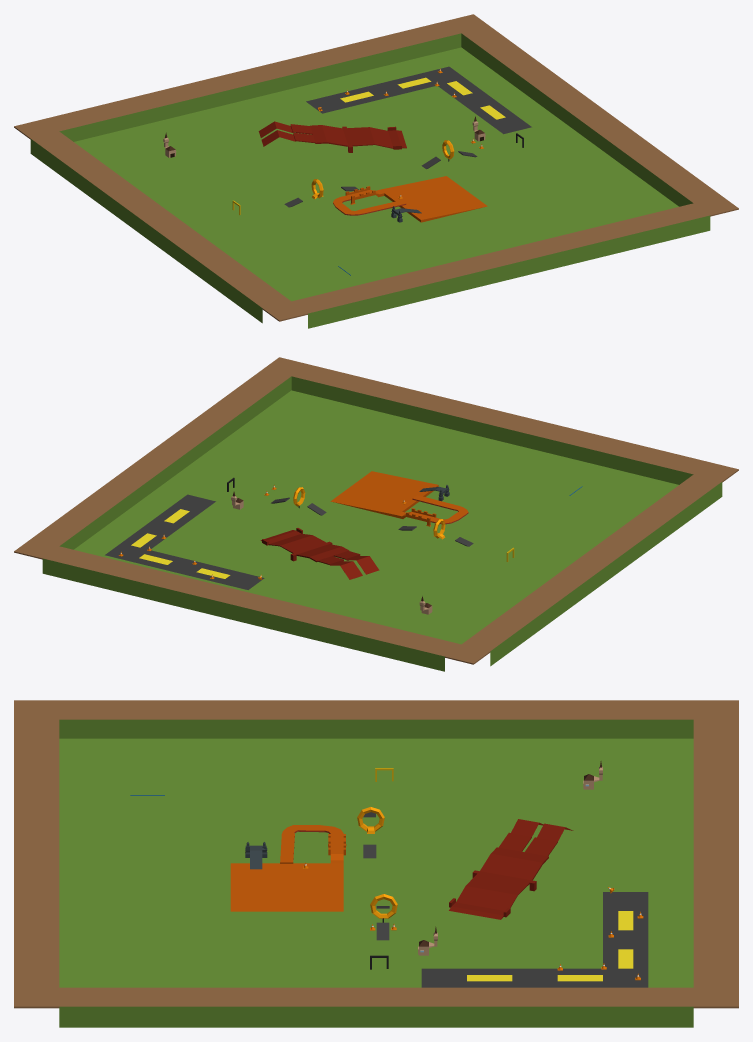
Rendered from test-course.gltf.
The picture shows the model from 3 angles, top to bottom: view 1: azimuth 30°, elevation 25°; view 2: azimuth 150°, elevation 25°; view 3: azimuth 270°, elevation 25°; orthographic projection. The views are drawn at different scales.
Visible parts, largest first — view 1: ground, house.003, bridge; view 2: ground, house.003, bridge; view 3: ground, house.003, bridge, house, house.004.
Part boxes in pixels (<box>): ground: <box>14,14,738,328</box>; house.003: <box>333,176,487,222</box>; bridge: <box>258,121,406,152</box>; ground: <box>14,357,738,671</box>; house.003: <box>330,471,468,526</box>; bridge: <box>260,528,379,579</box>; ground: <box>14,700,738,1027</box>; house.003: <box>230,825,346,911</box>; bridge: <box>449,819,573,919</box>; house: <box>370,894,397,940</box>; house.004: <box>357,807,384,858</box>.
Bounding box in the file's own units: 800 × 43.23 × 800.
Materials: 1 (1 with a texture image).
